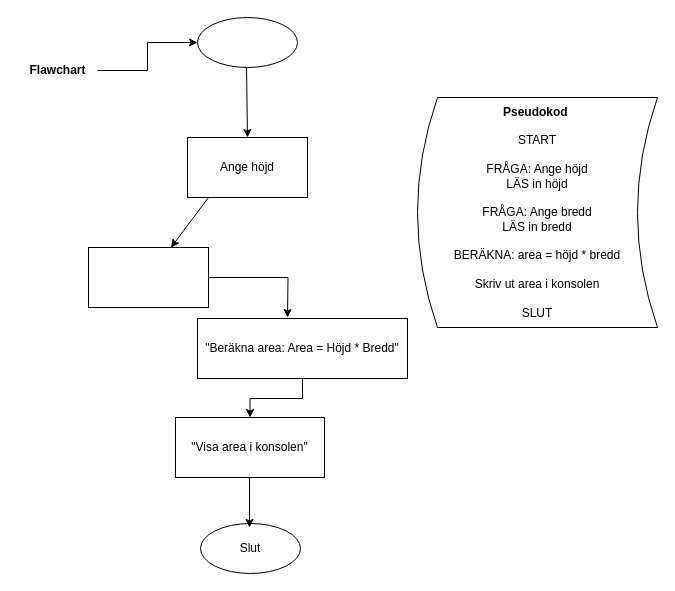
This 675x591 diagram has some shape labels left out. Here are the shapes that lost their labels. From the top down, the centre of each, then its label:
At pixel 247 42: "Start".
At pixel 148 277: "Ange Bredd".
